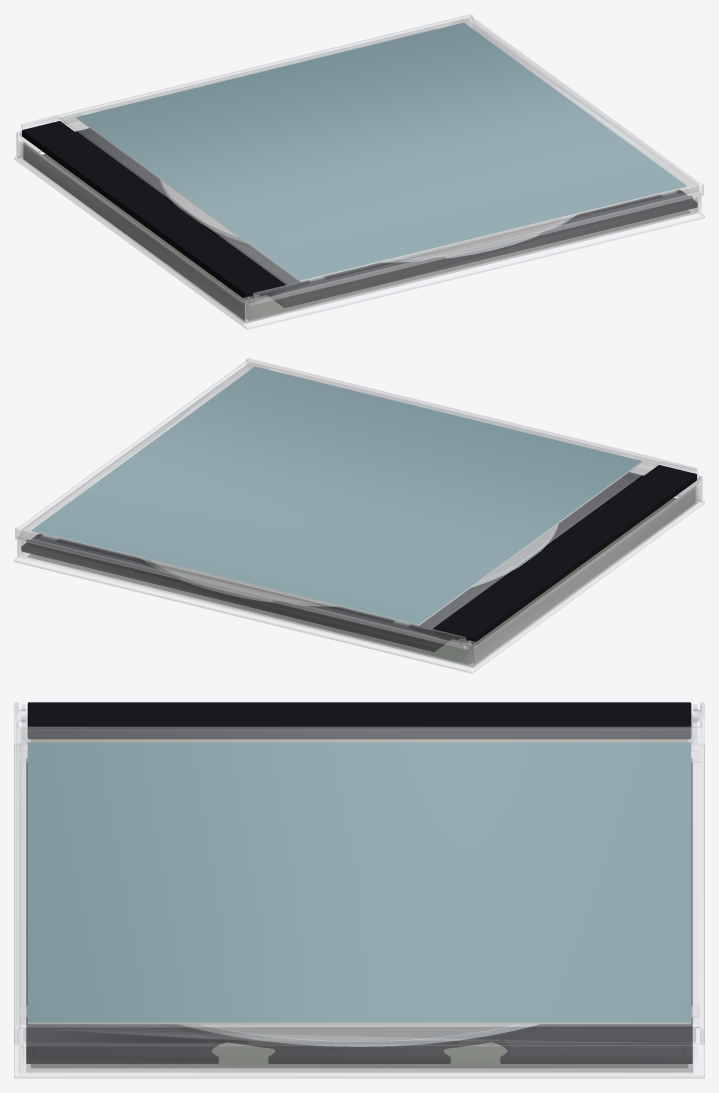
Rendered from jewel-case.glb.
3 views of the same model, one above another, from view 1: azimuth 30°, elevation 25°; view 2: azimuth 150°, elevation 25°; view 3: azimuth 270°, elevation 25° (orthographic). The views are drawn at different scales.
Visible parts, largest first — view 1: Lid_Hinge_Y__Polystyrene_Clear, Booklet_paper, Fixed_Base_And_Tray__Polystyrene_Clear, Fixed_spine_foundation, Fixed_Base_And_Tray__Tray_Graphite, Spine_card_return, Rear_card, CD_120mm; view 2: Lid_Hinge_Y__Polystyrene_Clear, Booklet_paper, Fixed_Base_And_Tray__Polystyrene_Clear, Fixed_spine_foundation, Fixed_Base_And_Tray__Tray_Graphite, Spine_card_return, Rear_card, CD_120mm; view 3: Lid_Hinge_Y__Polystyrene_Clear, Booklet_paper, Fixed_Base_And_Tray__Polystyrene_Clear, Fixed_spine_foundation, Fixed_Base_And_Tray__Tray_Graphite, CD_120mm, Rear_card, Spine_card_return.
Part boxes in pixels (left/top/right/bottom): Lid_Hinge_Y__Polystyrene_Clear: left=19, top=14, right=703, bottom=305; Booklet_paper: left=76, top=22, right=687, bottom=281; Fixed_Base_And_Tray__Polystyrene_Clear: left=14, top=121, right=704, bottom=329; Fixed_spine_foundation: left=22, top=121, right=283, bottom=299; Fixed_Base_And_Tray__Tray_Graphite: left=75, top=128, right=697, bottom=307; Spine_card_return: left=23, top=141, right=245, bottom=321; Rear_card: left=42, top=154, right=691, bottom=320; CD_120mm: left=160, top=180, right=576, bottom=262; Lid_Hinge_Y__Polystyrene_Clear: left=15, top=358, right=699, bottom=649; Booklet_paper: left=31, top=366, right=642, bottom=625; Fixed_Base_And_Tray__Polystyrene_Clear: left=14, top=465, right=704, bottom=673; Fixed_spine_foundation: left=435, top=465, right=696, bottom=643; Fixed_Base_And_Tray__Tray_Graphite: left=21, top=472, right=643, bottom=651; Spine_card_return: left=473, top=485, right=695, bottom=665; Rear_card: left=27, top=498, right=676, bottom=664; CD_120mm: left=142, top=524, right=558, bottom=606; Lid_Hinge_Y__Polystyrene_Clear: left=14, top=702, right=704, bottom=1044; Booklet_paper: left=27, top=742, right=691, bottom=1024; Fixed_Base_And_Tray__Polystyrene_Clear: left=14, top=704, right=704, bottom=1078; Fixed_spine_foundation: left=27, top=702, right=691, bottom=739; Fixed_Base_And_Tray__Tray_Graphite: left=26, top=758, right=692, bottom=1063; CD_120mm: left=180, top=1024, right=538, bottom=1046; Rear_card: left=30, top=1042, right=688, bottom=1068; Spine_card_return: left=30, top=739, right=688, bottom=742.
Bounding box in the file's own units: 0.142 × 0.0104 × 0.125.
